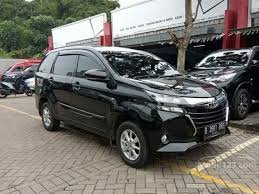mobil: (38, 46, 227, 161)
